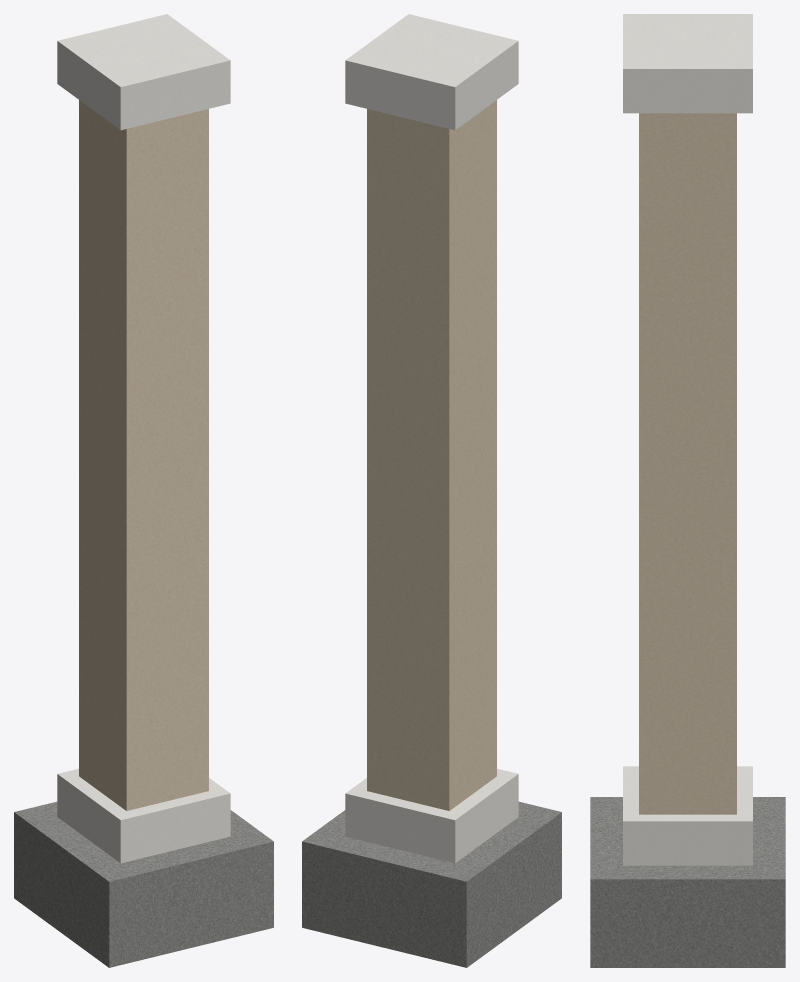
File: estate_pillar_5f.glb
3 renders of one model, left to right at view 1: azimuth 30°, elevation 25°; view 2: azimuth 150°, elevation 25°; view 3: azimuth 270°, elevation 25°, orthographic. The views are drawn at different scales.
Visible parts, largest first — view 1: Cube.001, Cube, Cube.003, Cube.002; view 2: Cube.001, Cube, Cube.003, Cube.002; view 3: Cube.001, Cube, Cube.003, Cube.002.
Part boxes in pixels (bbox=[...]): Cube.001: bbox=[79, 100, 208, 810]; Cube: bbox=[14, 801, 273, 967]; Cube.003: bbox=[57, 14, 230, 130]; Cube.002: bbox=[57, 768, 230, 863]; Cube.001: bbox=[367, 100, 496, 810]; Cube: bbox=[302, 801, 561, 967]; Cube.003: bbox=[345, 14, 518, 130]; Cube.002: bbox=[345, 768, 518, 863]; Cube.001: bbox=[639, 113, 736, 814]; Cube: bbox=[590, 797, 785, 967]; Cube.003: bbox=[623, 14, 752, 113]; Cube.002: bbox=[623, 766, 752, 865].
Bounding box in the file's own units: 0.6 × 3 × 0.6.
3 materials, 3 textured.
